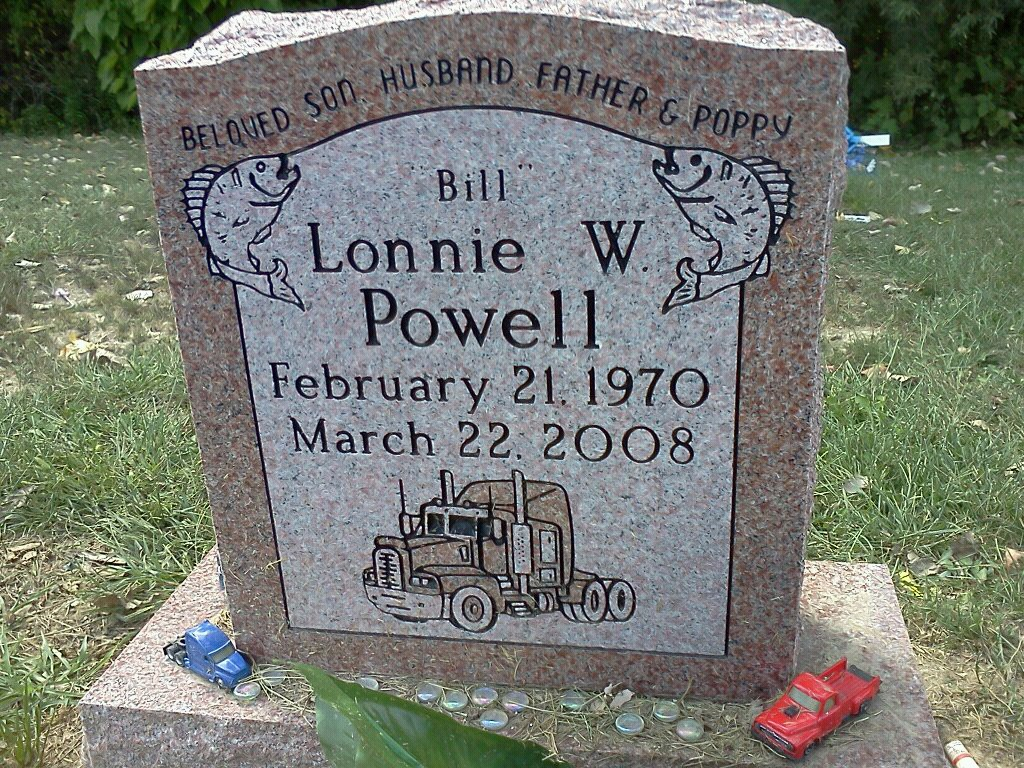upright: (140, 3, 846, 711)
